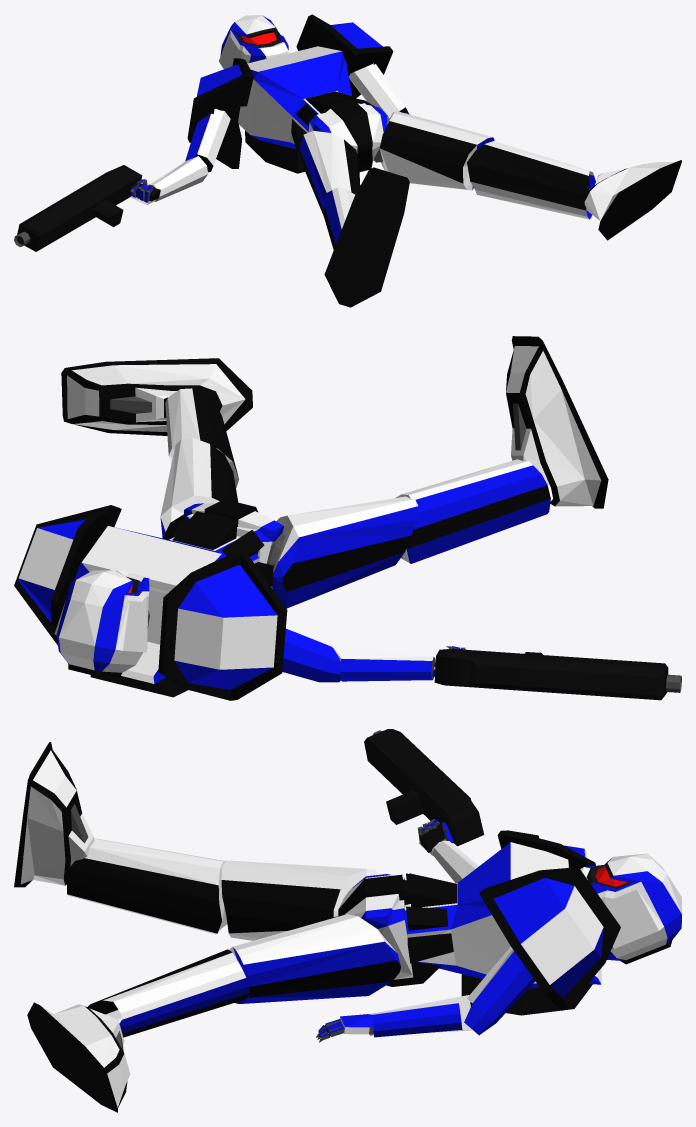
Rendered from robots_000055.obj.
3 renders of one model, top to bottom at view 1: azimuth 30°, elevation 25°; view 2: azimuth 150°, elevation 25°; view 3: azimuth 270°, elevation 25°, orthographic. The views are drawn at different scales.
Parts seen in each view (by area): view 1: Chest_plate_Cube.004, R_Foot_Cube, R_Shin.002_Cube.029, R_Thigh.002_Cube.027, Cube_Cube.001, R_Foot.002_Cube.035, Cube.002_Cube.059, R_Thigh_Cube.005, Pelvis_Cube.006, Cube_Cube.021, Head_base_Cube.022, L_Arm_Cube.014 (+3 smaller); view 2: Cube.002_Cube.059, R_Foot.002_Cube.035, Chest_plate_Cube.004, R_Thigh_Cube.005, R_Foot_Cube, R_Shin_Cube.007, Cube_Cube.001, Head_base_Cube.022, Cube_Cube.021, R_Thigh.002_Cube.027, R_Shin.002_Cube.029, R_Forearm_Cube.008 (+2 smaller); view 3: Chest_plate_Cube.004, Cube_Cube.021, R_Thigh.002_Cube.027, R_Shin_Cube.007, R_Thigh_Cube.005, R_Foot_Cube, Head_base_Cube.022, Cube_Cube.001, R_Shin.002_Cube.029, R_Foot.002_Cube.035, Pelvis_Cube.006, L_Arm_Cube.014 (+4 smaller).
Part boxes in pixels (box(x1,y1,x2,y2)): Chest_plate_Cube.004: box(238, 46, 373, 173); R_Foot_Cube: box(324, 167, 409, 307); R_Shin.002_Cube.029: box(467, 141, 595, 219); R_Thigh.002_Cube.027: box(379, 111, 494, 190); Cube_Cube.001: box(14, 165, 160, 251); R_Foot.002_Cube.035: box(584, 160, 681, 240); Cube.002_Cube.059: box(187, 58, 253, 168); R_Thigh_Cube.005: box(299, 131, 360, 215); Pelvis_Cube.006: box(308, 99, 387, 171); Cube_Cube.021: box(296, 14, 393, 98); Head_base_Cube.022: box(219, 15, 288, 68); L_Arm_Cube.014: box(349, 63, 408, 121); Cube.002_Cube.059: box(158, 551, 287, 700); R_Foot.002_Cube.035: box(61, 358, 252, 435); Chest_plate_Cube.004: box(74, 511, 273, 697); R_Thigh_Cube.005: box(272, 496, 418, 608); R_Foot_Cube: box(506, 336, 608, 508); R_Shin_Cube.007: box(395, 459, 550, 563); Cube_Cube.001: box(434, 649, 681, 700); Head_base_Cube.022: box(54, 569, 149, 677); Cube_Cube.021: box(14, 505, 121, 645); R_Thigh.002_Cube.027: box(160, 437, 238, 537); R_Shin.002_Cube.029: box(165, 388, 238, 487); R_Forearm_Cube.008: box(331, 646, 435, 681); Chest_plate_Cube.004: box(405, 842, 601, 1015); Cube_Cube.021: box(479, 867, 620, 1010); R_Thigh.002_Cube.027: box(229, 914, 400, 1003); R_Shin_Cube.007: box(67, 838, 227, 934); R_Thigh_Cube.005: box(221, 860, 379, 940); R_Foot_Cube: box(14, 742, 94, 887); Head_base_Cube.022: box(580, 853, 681, 964); Cube_Cube.001: box(364, 729, 484, 852); R_Shin.002_Cube.029: box(87, 949, 249, 1037); R_Foot.002_Cube.035: box(27, 1002, 130, 1112); Pelvis_Cube.006: box(338, 874, 441, 986); L_Arm_Cube.014: box(464, 946, 535, 1035).
Size of the model in its own units: 3.85 by 0.9504 by 3.
